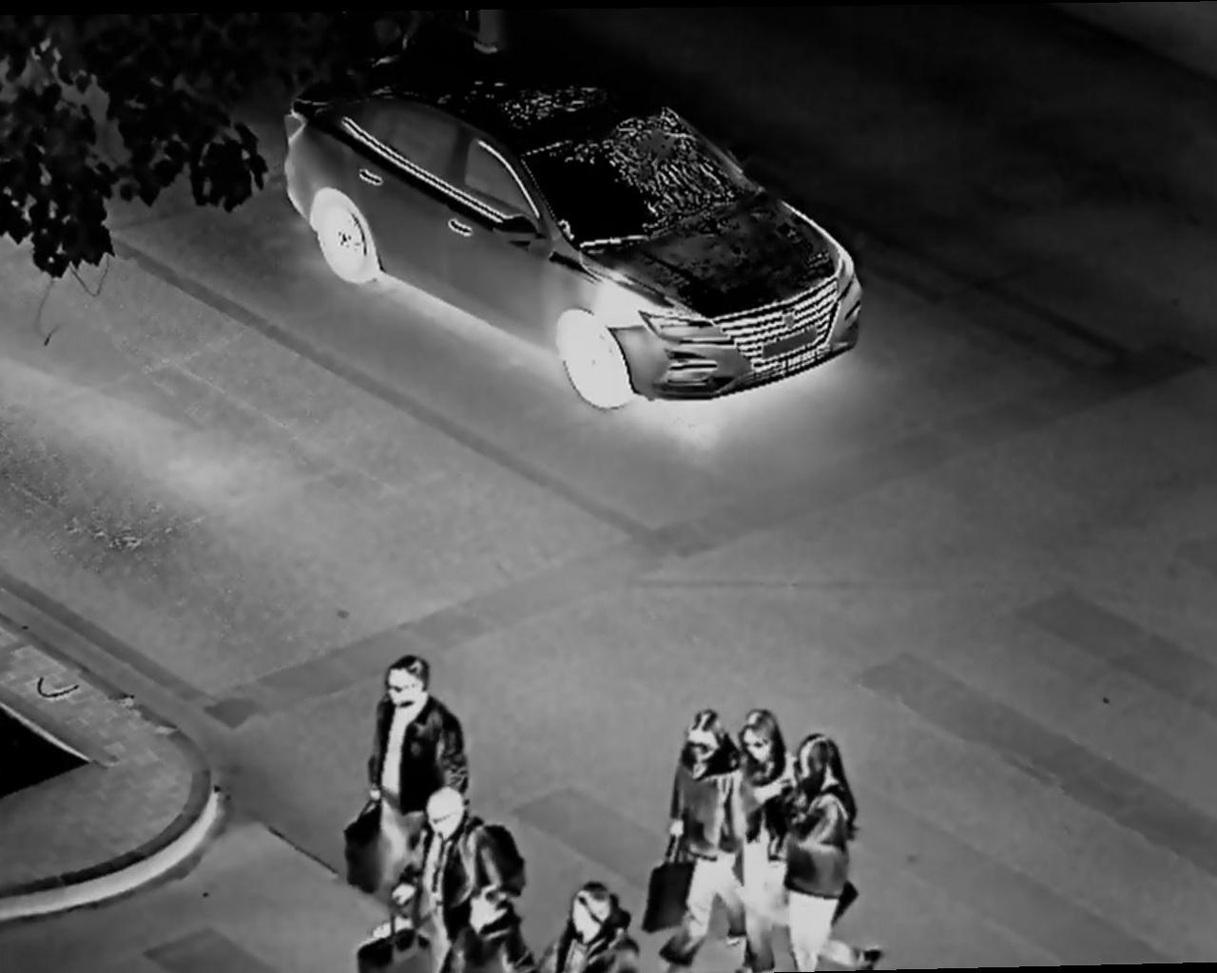person: (350, 646, 457, 900), (790, 731, 891, 972), (396, 781, 522, 973), (662, 708, 752, 960), (729, 721, 804, 947), (538, 878, 642, 973)
